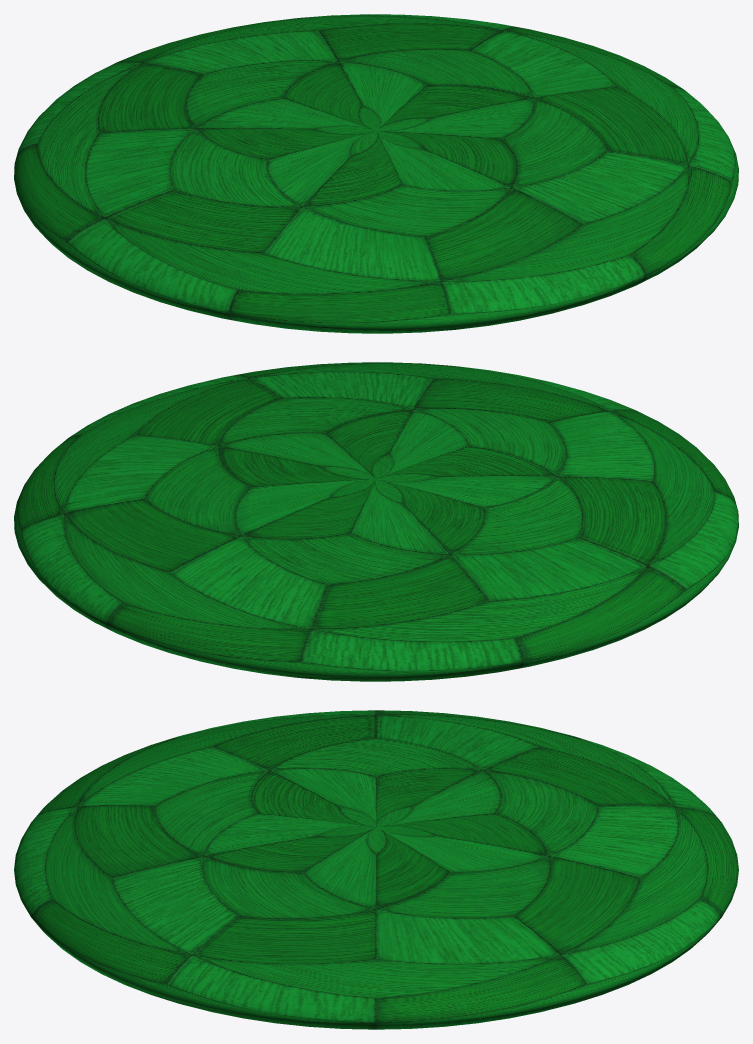
Rendered from DiscGreen.glb.
3 views of the same model, one above another, from view 1: azimuth 30°, elevation 25°; view 2: azimuth 150°, elevation 25°; view 3: azimuth 270°, elevation 25° (orthographic).
Visible parts, largest first — view 1: Sphere; view 2: Sphere; view 3: Sphere.
Boxes of the visible parts, x1,y1,x2,y2 form: Sphere: (14, 14, 738, 333); Sphere: (14, 362, 738, 681); Sphere: (14, 710, 738, 1029).
Size of the model in its own units: 2 by 0.2604 by 2.
1 material, 1 textured.
